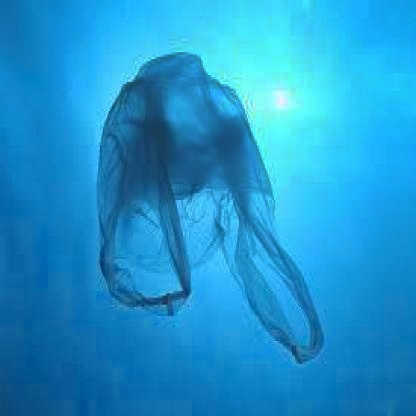pbag: (97, 52, 325, 364)
